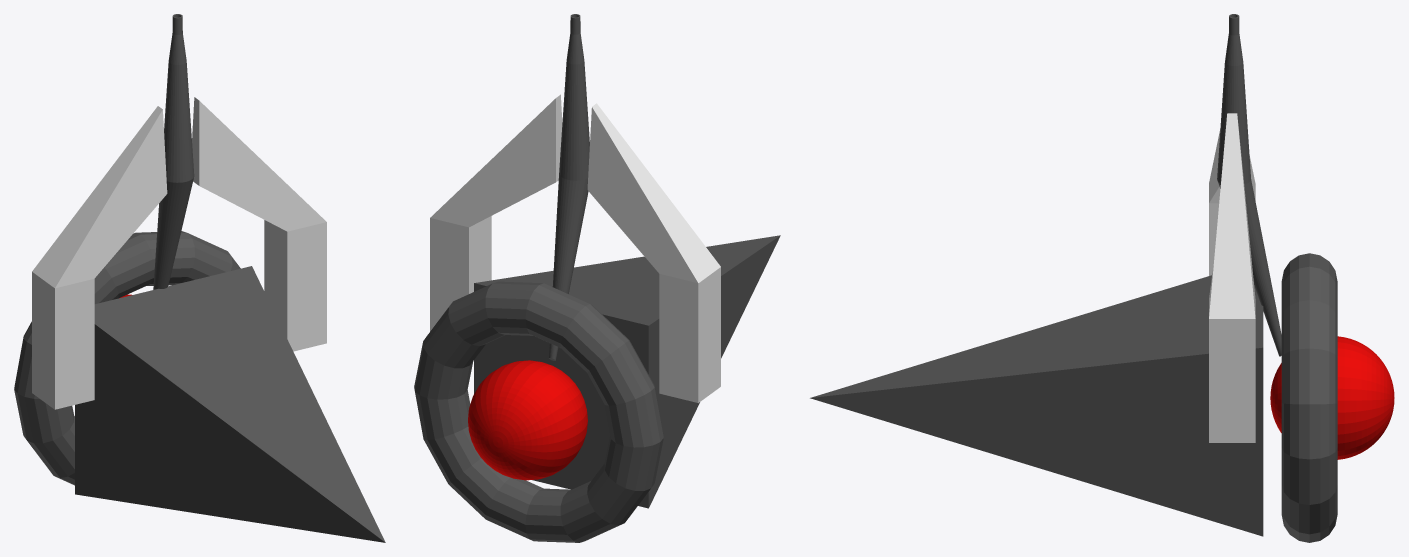
File: WandererMesh.fbx
3 views of the same model, side by side, from view 1: azimuth 30°, elevation 25°; view 2: azimuth 150°, elevation 25°; view 3: azimuth 270°, elevation 25° (orthographic). The views are drawn at different scales.
Parts seen in each view (by area): view 1: Body, Hands, Torus, Weapon; view 2: Torus, Hands, Body, Sphere, Weapon; view 3: Body, Torus, Hands, Sphere, Weapon.
Part boxes in pixels (left/top/right/bottom): Body: left=75, top=266, right=385, bottom=542; Hands: left=32, top=97, right=326, bottom=409; Torus: left=14, top=231, right=240, bottom=485; Weapon: left=153, top=14, right=194, bottom=289; Torus: left=414, top=281, right=663, bottom=542; Hands: left=430, top=94, right=720, bottom=402; Body: left=474, top=235, right=780, bottom=508; Sphere: left=468, top=360, right=587, bottom=480; Weapon: left=549, top=14, right=589, bottom=360; Body: left=810, top=275, right=1263, bottom=536; Torus: left=1281, top=253, right=1337, bottom=542; Hands: left=1209, top=113, right=1255, bottom=442; Sphere: left=1270, top=336, right=1394, bottom=459; Weapon: left=1217, top=14, right=1281, bottom=356.
Size of the model in its own units: 113 by 199 by 205.
